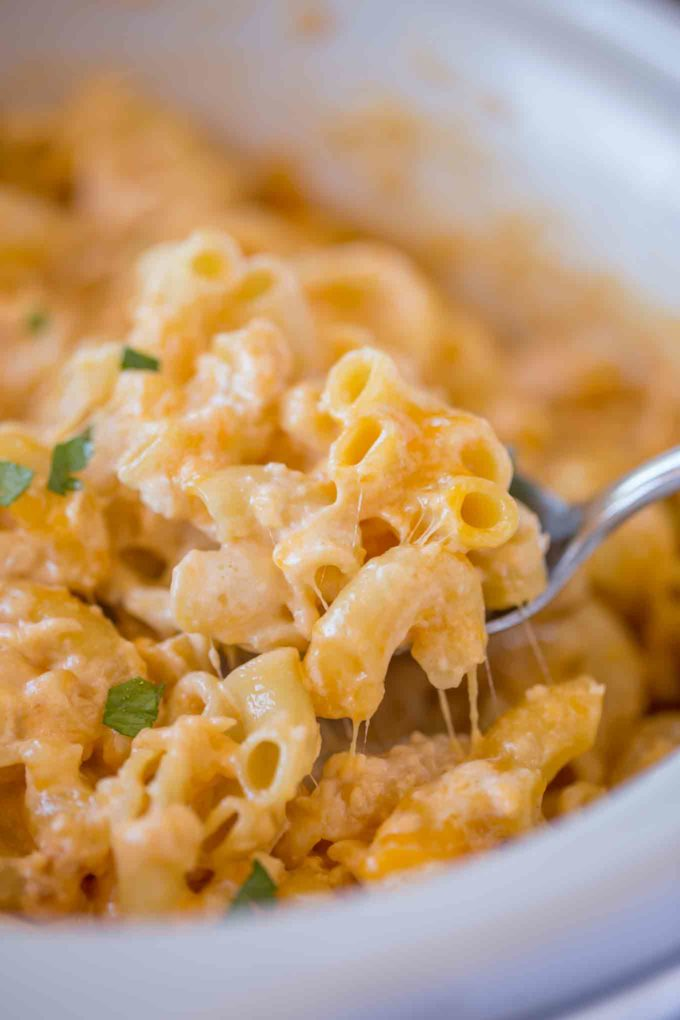macncheese: (47, 238, 622, 847)
